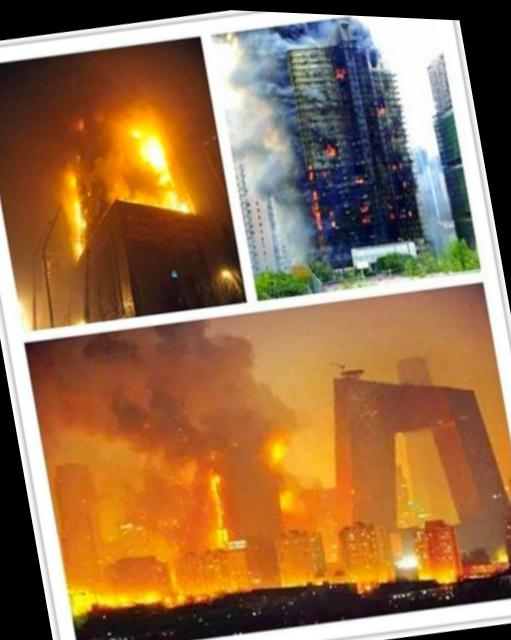fire: (46, 92, 200, 260), (195, 458, 239, 550), (264, 426, 299, 509), (304, 162, 326, 229), (323, 135, 341, 156), (360, 198, 374, 221), (334, 58, 350, 78), (352, 164, 367, 180), (376, 101, 388, 115)
